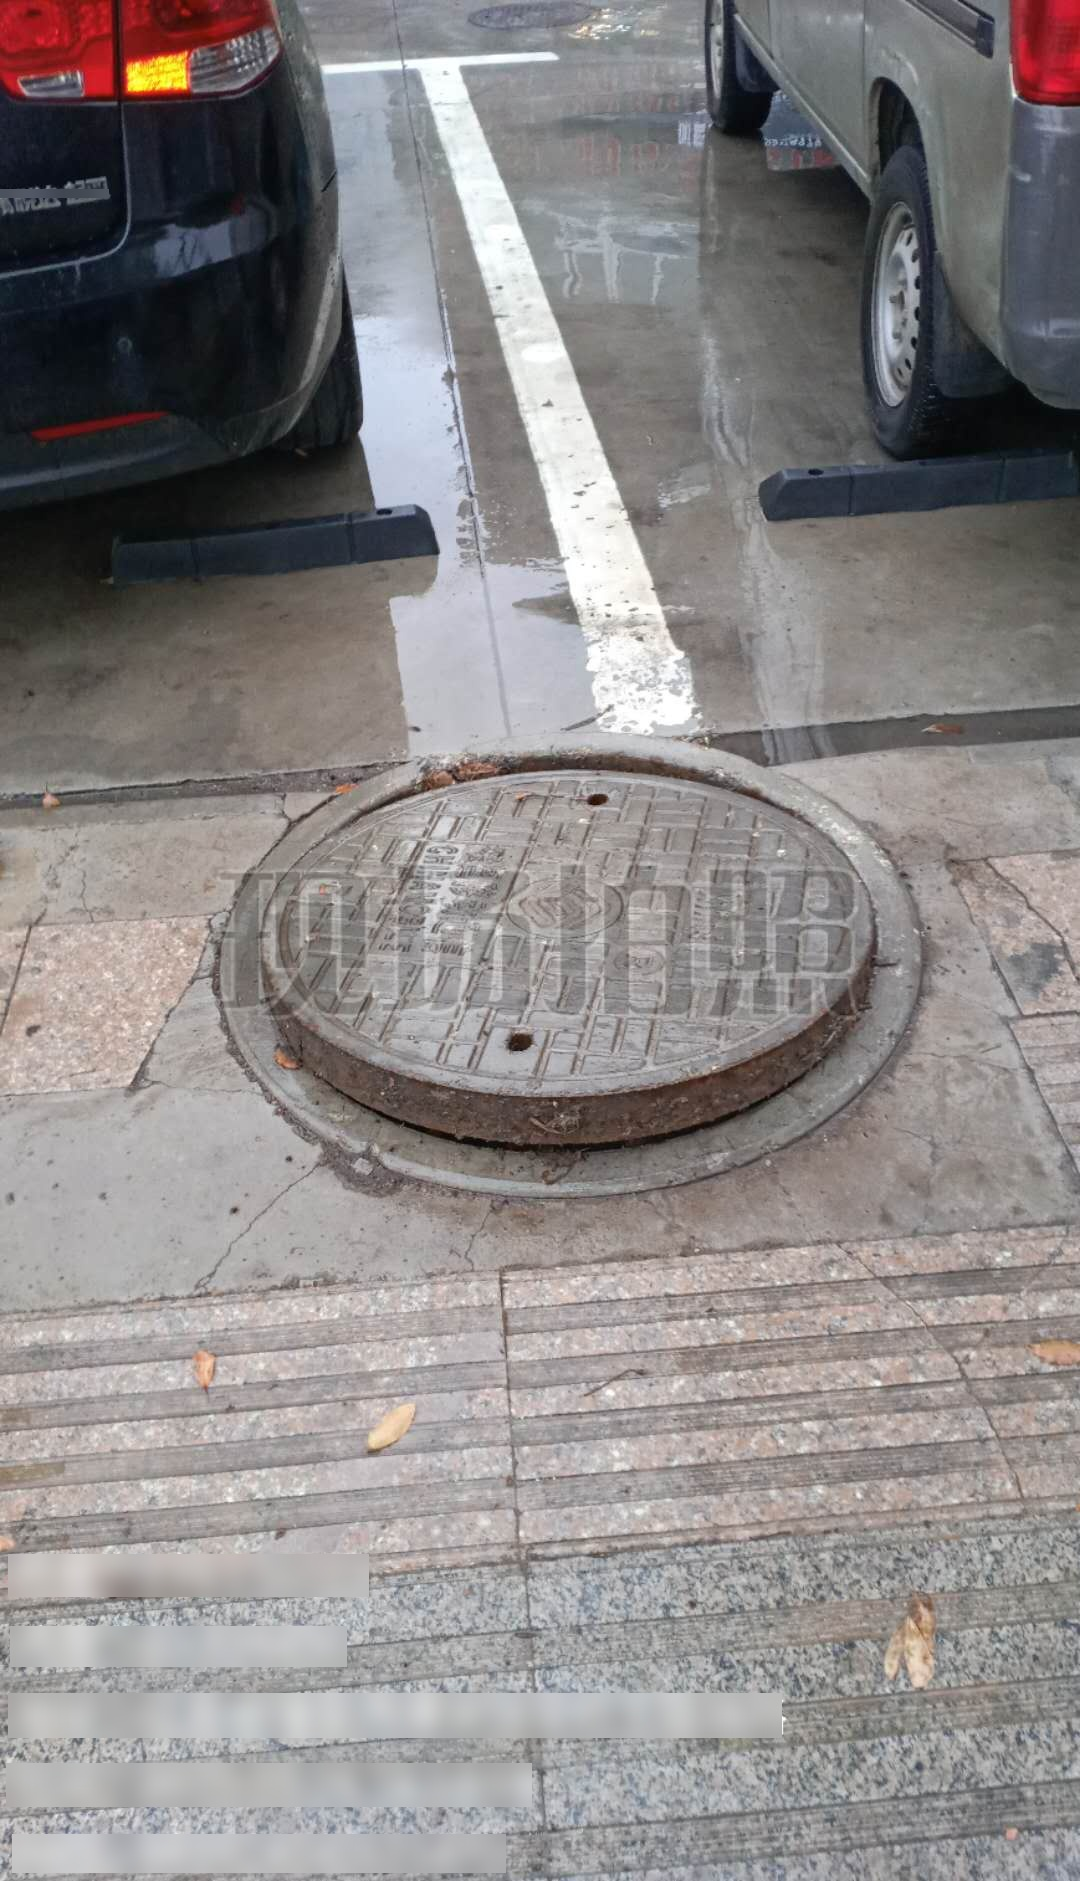uncovered: (214, 735, 926, 1192)
